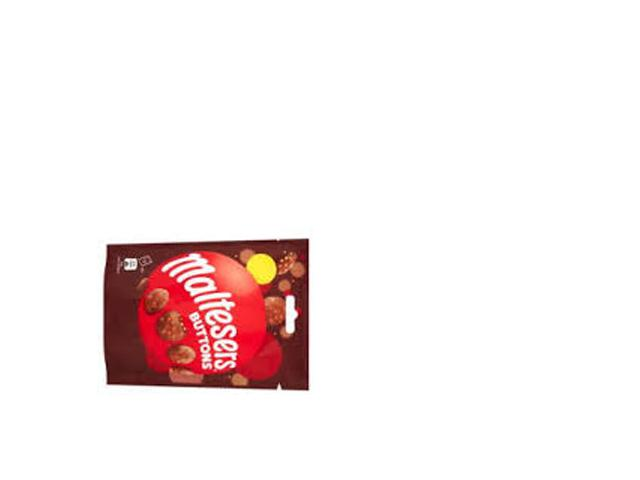chocolate: (97, 237, 312, 392)
